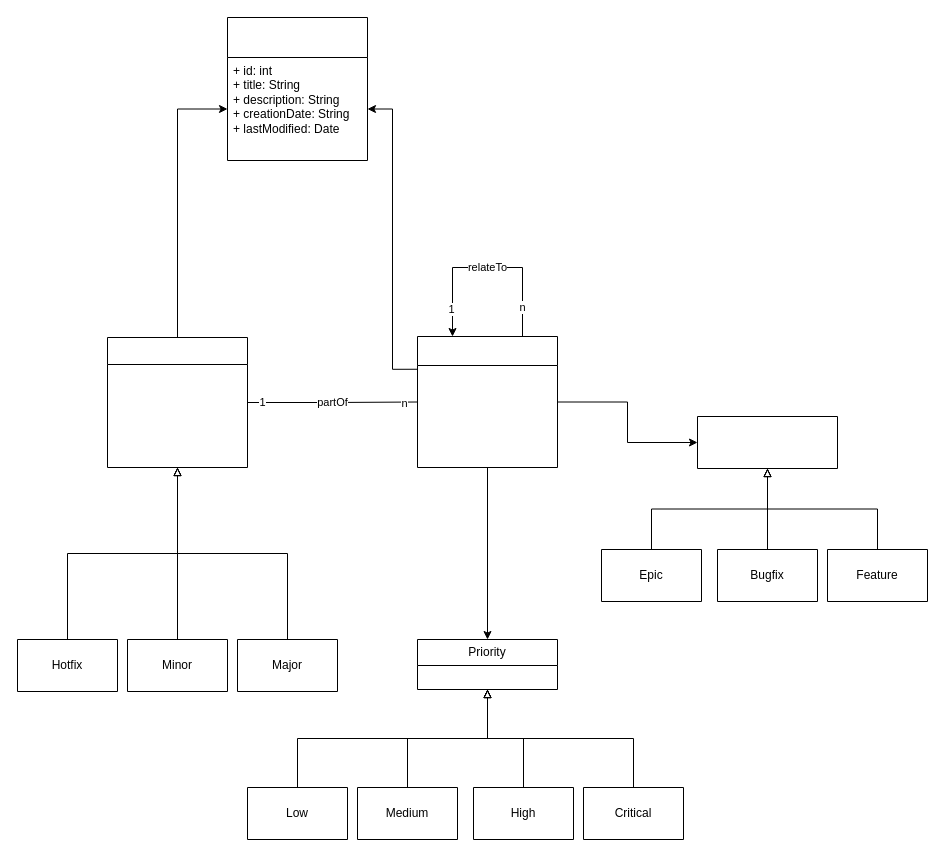
This 945x857 diagram has some shape labels left out. The shapes that lost their labels are listed below. From the top down, each one's box as (x1, y1, x2, y2) in pixels, then its label:
(226, 16, 368, 160): <<interface>> Workitem
(106, 336, 248, 468): Release
(416, 336, 558, 468): Ticket
(696, 416, 838, 468): Type
